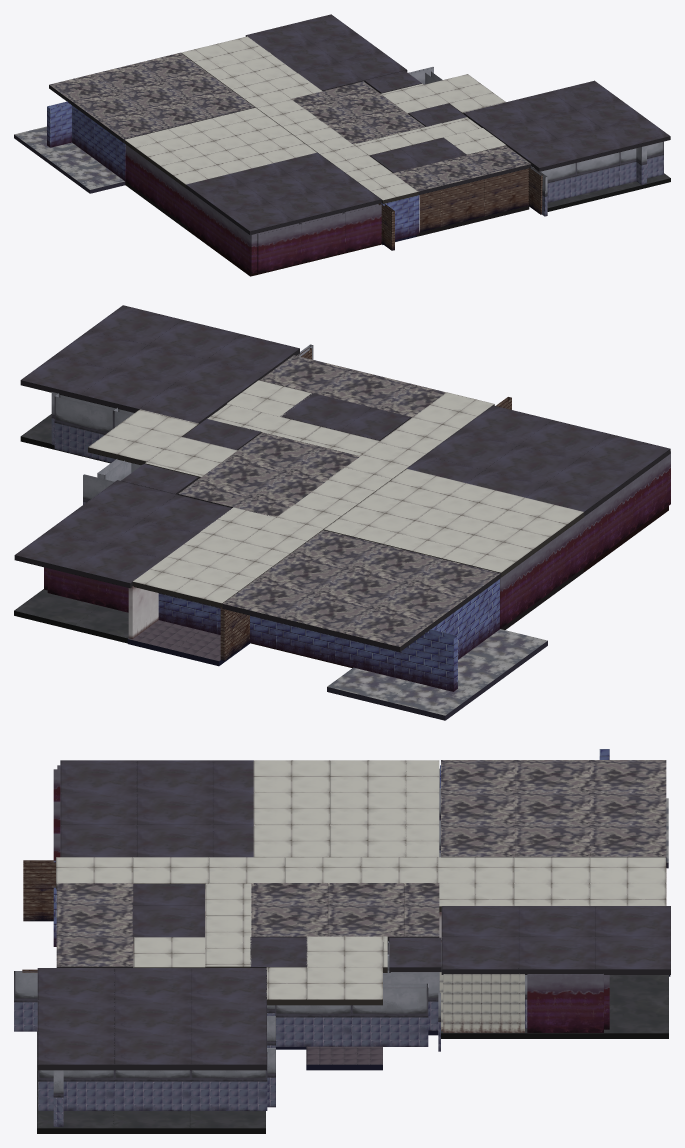
Rendered from Mapa_BIENCORREGIDO_Individual.fbx.
The picture shows the model from 3 angles, top to bottom: view 1: azimuth 30°, elevation 25°; view 2: azimuth 150°, elevation 25°; view 3: azimuth 270°, elevation 25°; orthographic projection. The views are drawn at different scales.
Parts seen in each view (by area): view 1: Wall3.010, Wall3.011, Wall4.005, Wall4.006, Wall3.012, Wall6.035, Ceiling2.014, Ceiling2.027, Ceiling2.012, Ceiling3.005, Ceiling2.013, Ceiling2.029 (+84 smaller); view 2: Wall1.007, Wall6.030, Ceiling3.012, Ceiling2.008, Ceiling3.010, Ceiling3.011, Ceiling2.023, Ceiling2.022, Ceiling1.003, Ceiling2.011, Ceiling2.014, Ceiling3.008 (+86 smaller); view 3: Wall3.002, Wall5.011, Wall6.003, Wall6.002, Wall6.031, Wall6.032, Ceiling2.023, Ceiling2.026, Ceiling2.029, Ceiling1.003, Ceiling2.008, Ceiling2.006 (+78 smaller).
Part boxes in pixels (x1,y1,x2,y2): Wall3.010: (256,223,302,273); Wall3.011: (299,212,345,262); Wall4.005: (485,168,528,216); Wall4.006: (441,179,484,226); Wall3.012: (342,203,382,251); Wall6.035: (576,152,619,195); Ceiling2.014: (224,202,293,234); Ceiling2.027: (514,139,582,171); Ceiling2.012: (312,181,381,213); Ceiling3.005: (463,145,531,178); Ceiling2.013: (269,191,337,224); Ceiling2.029: (601,118,670,150); Wall1.007: (394,629,457,691); Wall6.030: (54,393,118,462); Ceiling3.012: (340,608,433,651); Ceiling2.008: (14,530,107,574); Ceiling3.010: (222,579,315,622); Ceiling3.011: (281,593,374,637); Ceiling2.023: (20,355,112,399); Ceiling2.022: (79,369,171,412); Ceiling1.003: (88,422,180,465); Ceiling2.011: (73,544,164,588); Ceiling2.014: (577,434,670,478); Ceiling3.008: (375,583,467,626); Wall3.002: (527,974,603,1032); Wall5.011: (443,974,519,1032); Wall6.003: (351,983,428,1046); Wall6.002: (275,1005,351,1046); Wall6.031: (190,1052,267,1110); Wall6.032: (114,1070,191,1110); Ceiling2.023: (190,1032,266,1070); Ceiling2.026: (114,1032,190,1070); Ceiling2.029: (37,1032,113,1070); Ceiling1.003: (306,967,382,1005); Ceiling2.008: (594,937,670,974); Ceiling2.006: (441,937,518,974).
Size of the model in its own units: 6053 by 590 by 5092.
